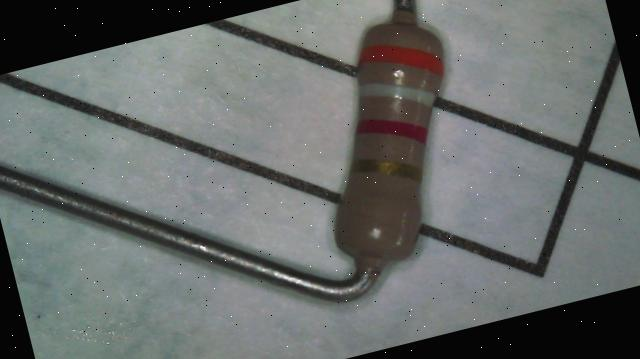gold: (354, 146, 422, 194)
orange: (354, 30, 444, 95)
red: (354, 105, 428, 158)
resistor: (309, 5, 462, 286)
white: (359, 67, 436, 122)
